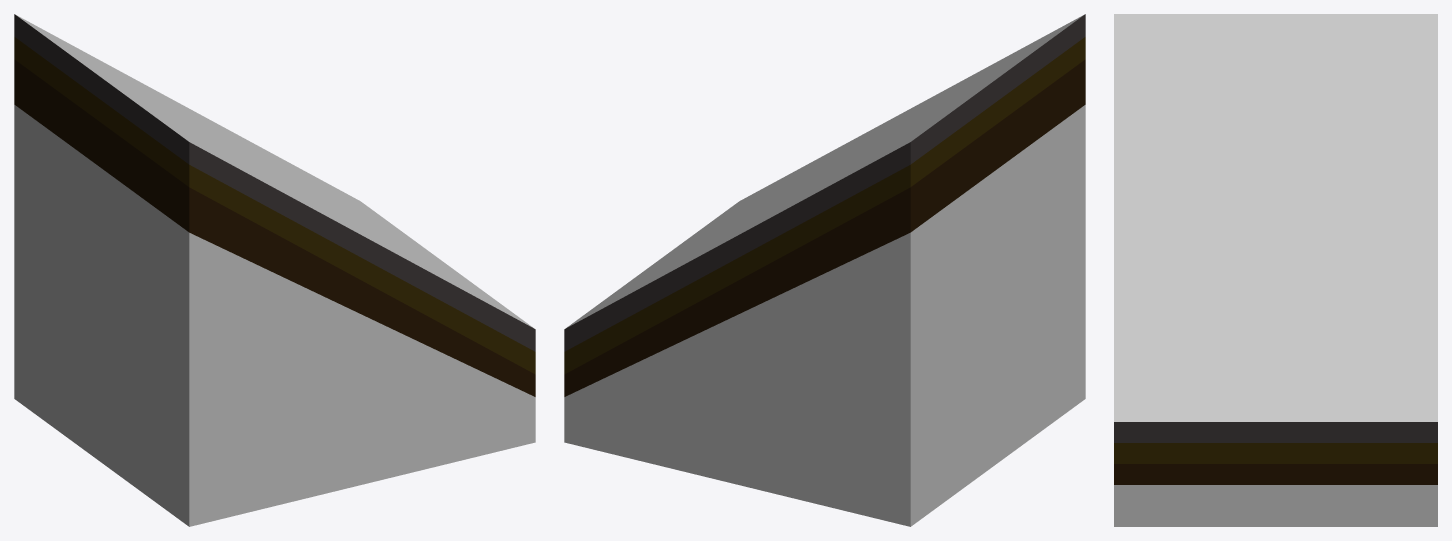
Rendered from model_loc_1638_a.obj.
3 renders of one model, left to right at view 1: azimuth 30°, elevation 25°; view 2: azimuth 150°, elevation 25°; view 3: azimuth 270°, elevation 25°, orthographic. The views are drawn at different scales.
Parts seen in each view (by area): view 1: 628; view 2: 628; view 3: 628.
Part boxes in pixels (x1,y1,x2,y2): 628: (14, 14, 535, 526); 628: (564, 14, 1085, 526); 628: (1114, 14, 1437, 526).
Size of the model in its own units: 128 by 136 by 112.
